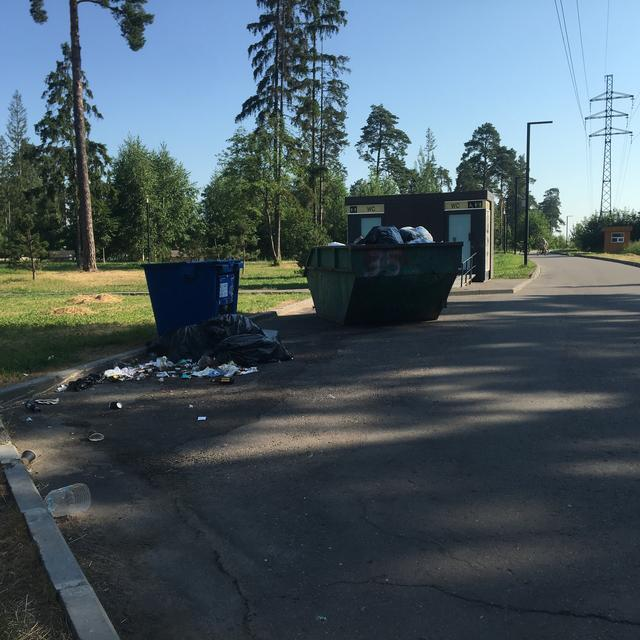Trash_Can_Empty: (139, 257, 242, 335)
